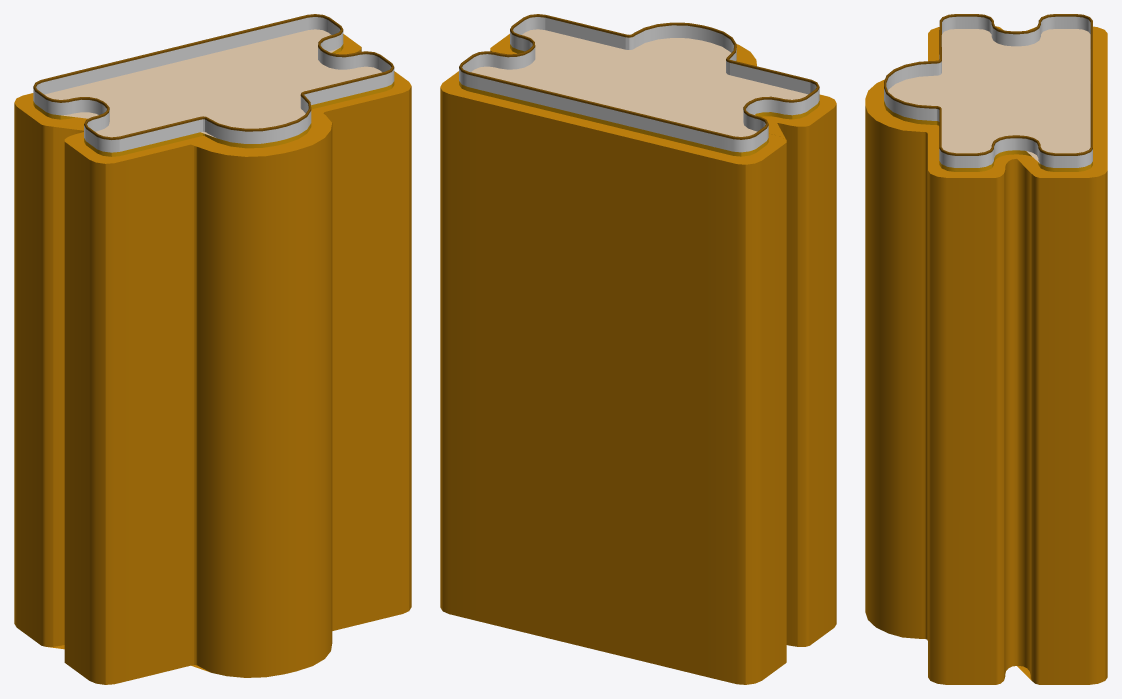
3 views of the same model, side by side, from view 1: azimuth 30°, elevation 25°; view 2: azimuth 150°, elevation 25°; view 3: azimuth 270°, elevation 25° (orthographic). The views are drawn at different scales.
Visible parts, largest first — view 1: base22, base15, polySurface1190, polySurface1189, polySurface652, polySurface1188; view 2: base22, base15, polySurface1190, polySurface1189, polySurface652, polySurface1188; view 3: base22, base15, polySurface1189, polySurface1190, polySurface652, polySurface1188.
Part boxes in pixels (<box>): base22: <box>14,34,411,684</box>; base15: <box>33,29,394,156</box>; polySurface1190: <box>33,79,119,152</box>; polySurface1189: <box>295,17,394,86</box>; polySurface652: <box>33,14,394,139</box>; polySurface1188: <box>200,94,311,143</box>; base22: <box>440,34,836,684</box>; base15: <box>459,29,819,156</box>; polySurface1190: <box>719,82,819,152</box>; polySurface1189: <box>459,17,545,89</box>; polySurface652: <box>459,14,819,139</box>; polySurface1188: <box>625,25,736,74</box>; base22: <box>865,26,1107,684</box>; base15: <box>884,29,1092,171</box>; polySurface1189: <box>939,138,1092,167</box>; polySurface1190: <box>942,16,1090,46</box>; polySurface652: <box>884,14,1092,155</box>; polySurface1188: <box>884,61,941,121</box>.
Bounding box in the file's own units: 70.63 × 114 × 47.72.
